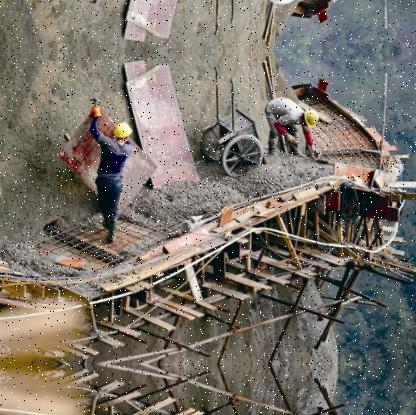helmet: (116, 121, 136, 142), (300, 109, 322, 127)
